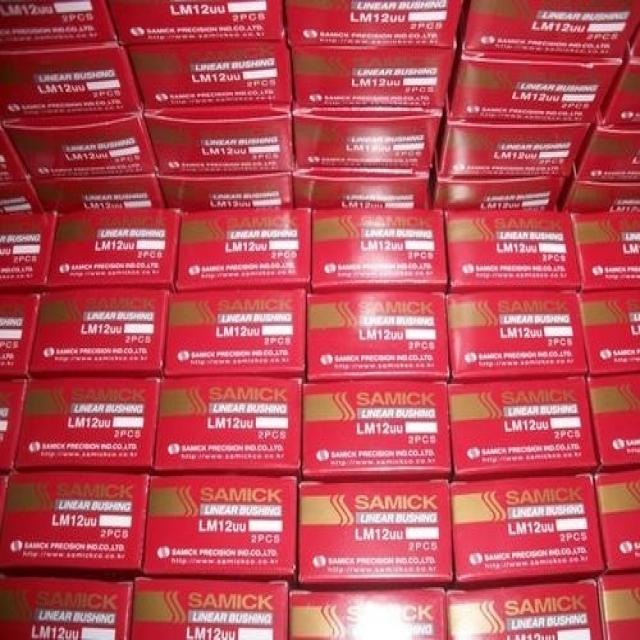box: (449, 473, 604, 587), (142, 474, 297, 587), (298, 480, 453, 587), (449, 375, 595, 481), (154, 377, 303, 478), (302, 381, 452, 481), (0, 471, 148, 570), (445, 290, 589, 384), (14, 379, 161, 471), (306, 290, 451, 381), (163, 288, 307, 377), (448, 48, 623, 121), (29, 288, 168, 377), (436, 102, 590, 177), (444, 210, 581, 294), (177, 208, 311, 292), (312, 210, 449, 292), (0, 111, 160, 179), (125, 43, 292, 108), (46, 207, 180, 288), (146, 104, 296, 176), (457, 0, 640, 58), (292, 46, 457, 109), (0, 48, 142, 119), (129, 577, 288, 640), (447, 577, 604, 640), (293, 108, 444, 167), (0, 577, 133, 640), (283, 0, 465, 46), (106, 0, 284, 46), (288, 589, 447, 640), (429, 152, 567, 208), (292, 166, 431, 208), (159, 171, 294, 212), (571, 210, 640, 290), (586, 372, 640, 474), (579, 287, 640, 375), (595, 469, 640, 577), (29, 177, 164, 212), (0, 213, 58, 292), (575, 121, 640, 183), (598, 573, 640, 640)
